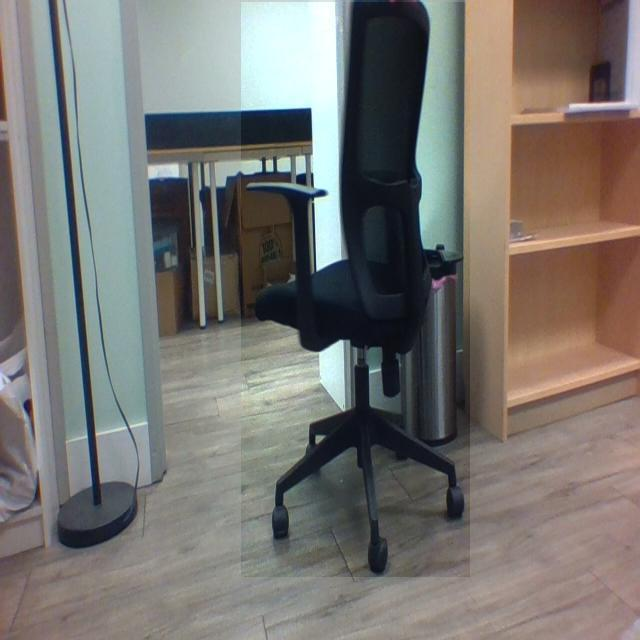chair: (241, 2, 471, 578)
